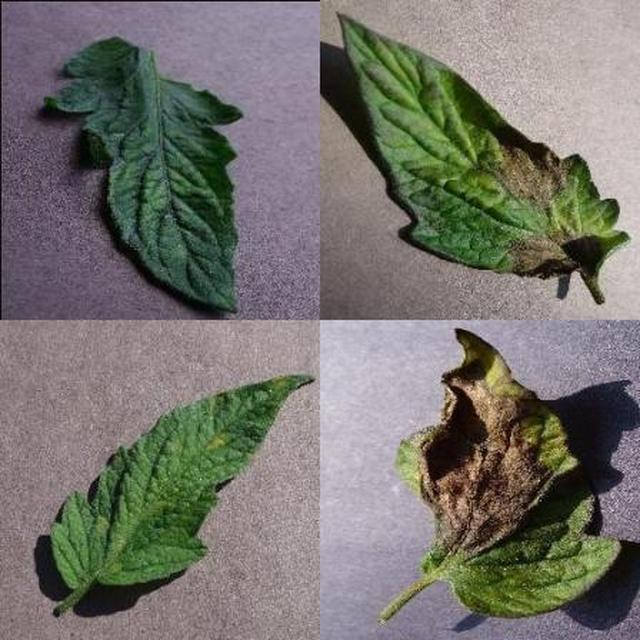Mosaic Virus Leaf: (204, 207, 640, 640)
